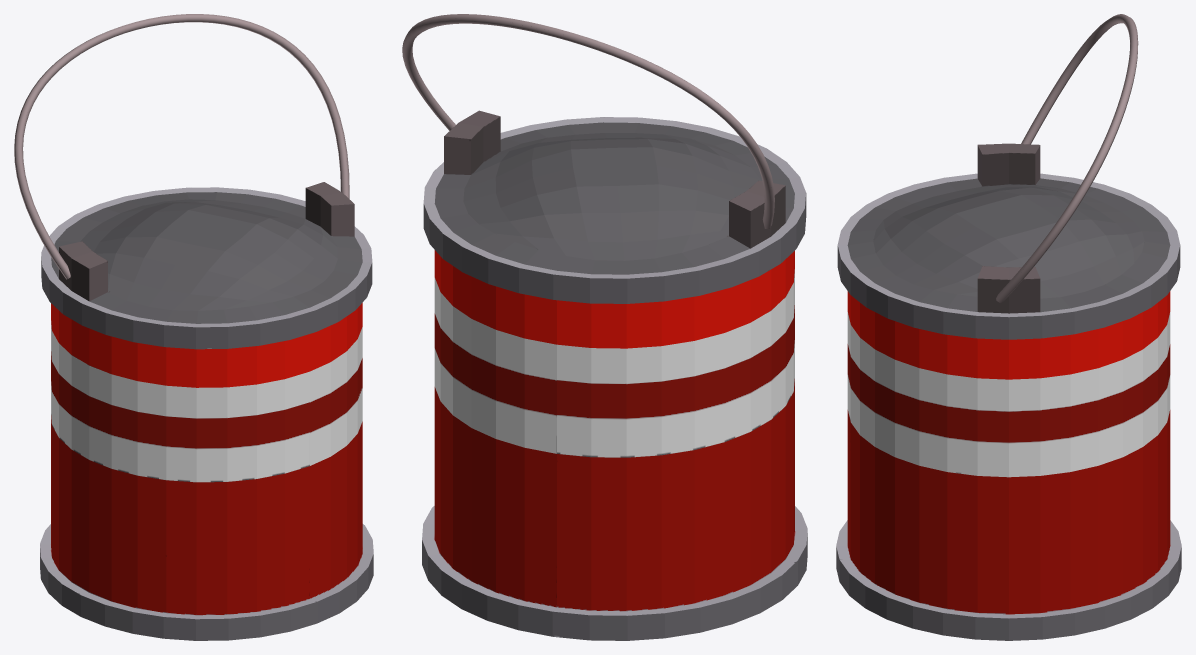
File: paintcan.fbx
The picture shows the model from 3 angles, left to right: view 1: azimuth 30°, elevation 25°; view 2: azimuth 150°, elevation 25°; view 3: azimuth 270°, elevation 25°; orthographic projection. The views are drawn at different scales.
Visible parts, largest first — view 1: paintcan; view 2: paintcan; view 3: paintcan.
Boxes of the visible parts, bbox=[...] form: paintcan: bbox=[14, 14, 373, 640]; paintcan: bbox=[402, 14, 807, 640]; paintcan: bbox=[836, 14, 1181, 640].
Size of the model in its own units: 40.54 by 62.63 by 37.5.
2 materials, 2 textured.
